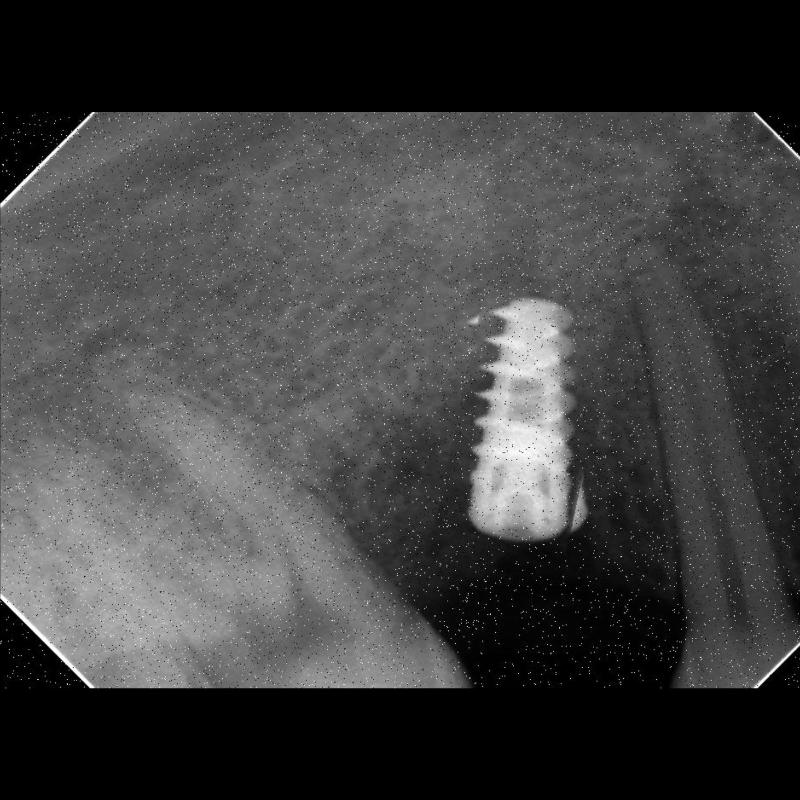ADIN: (445, 292, 603, 548)
